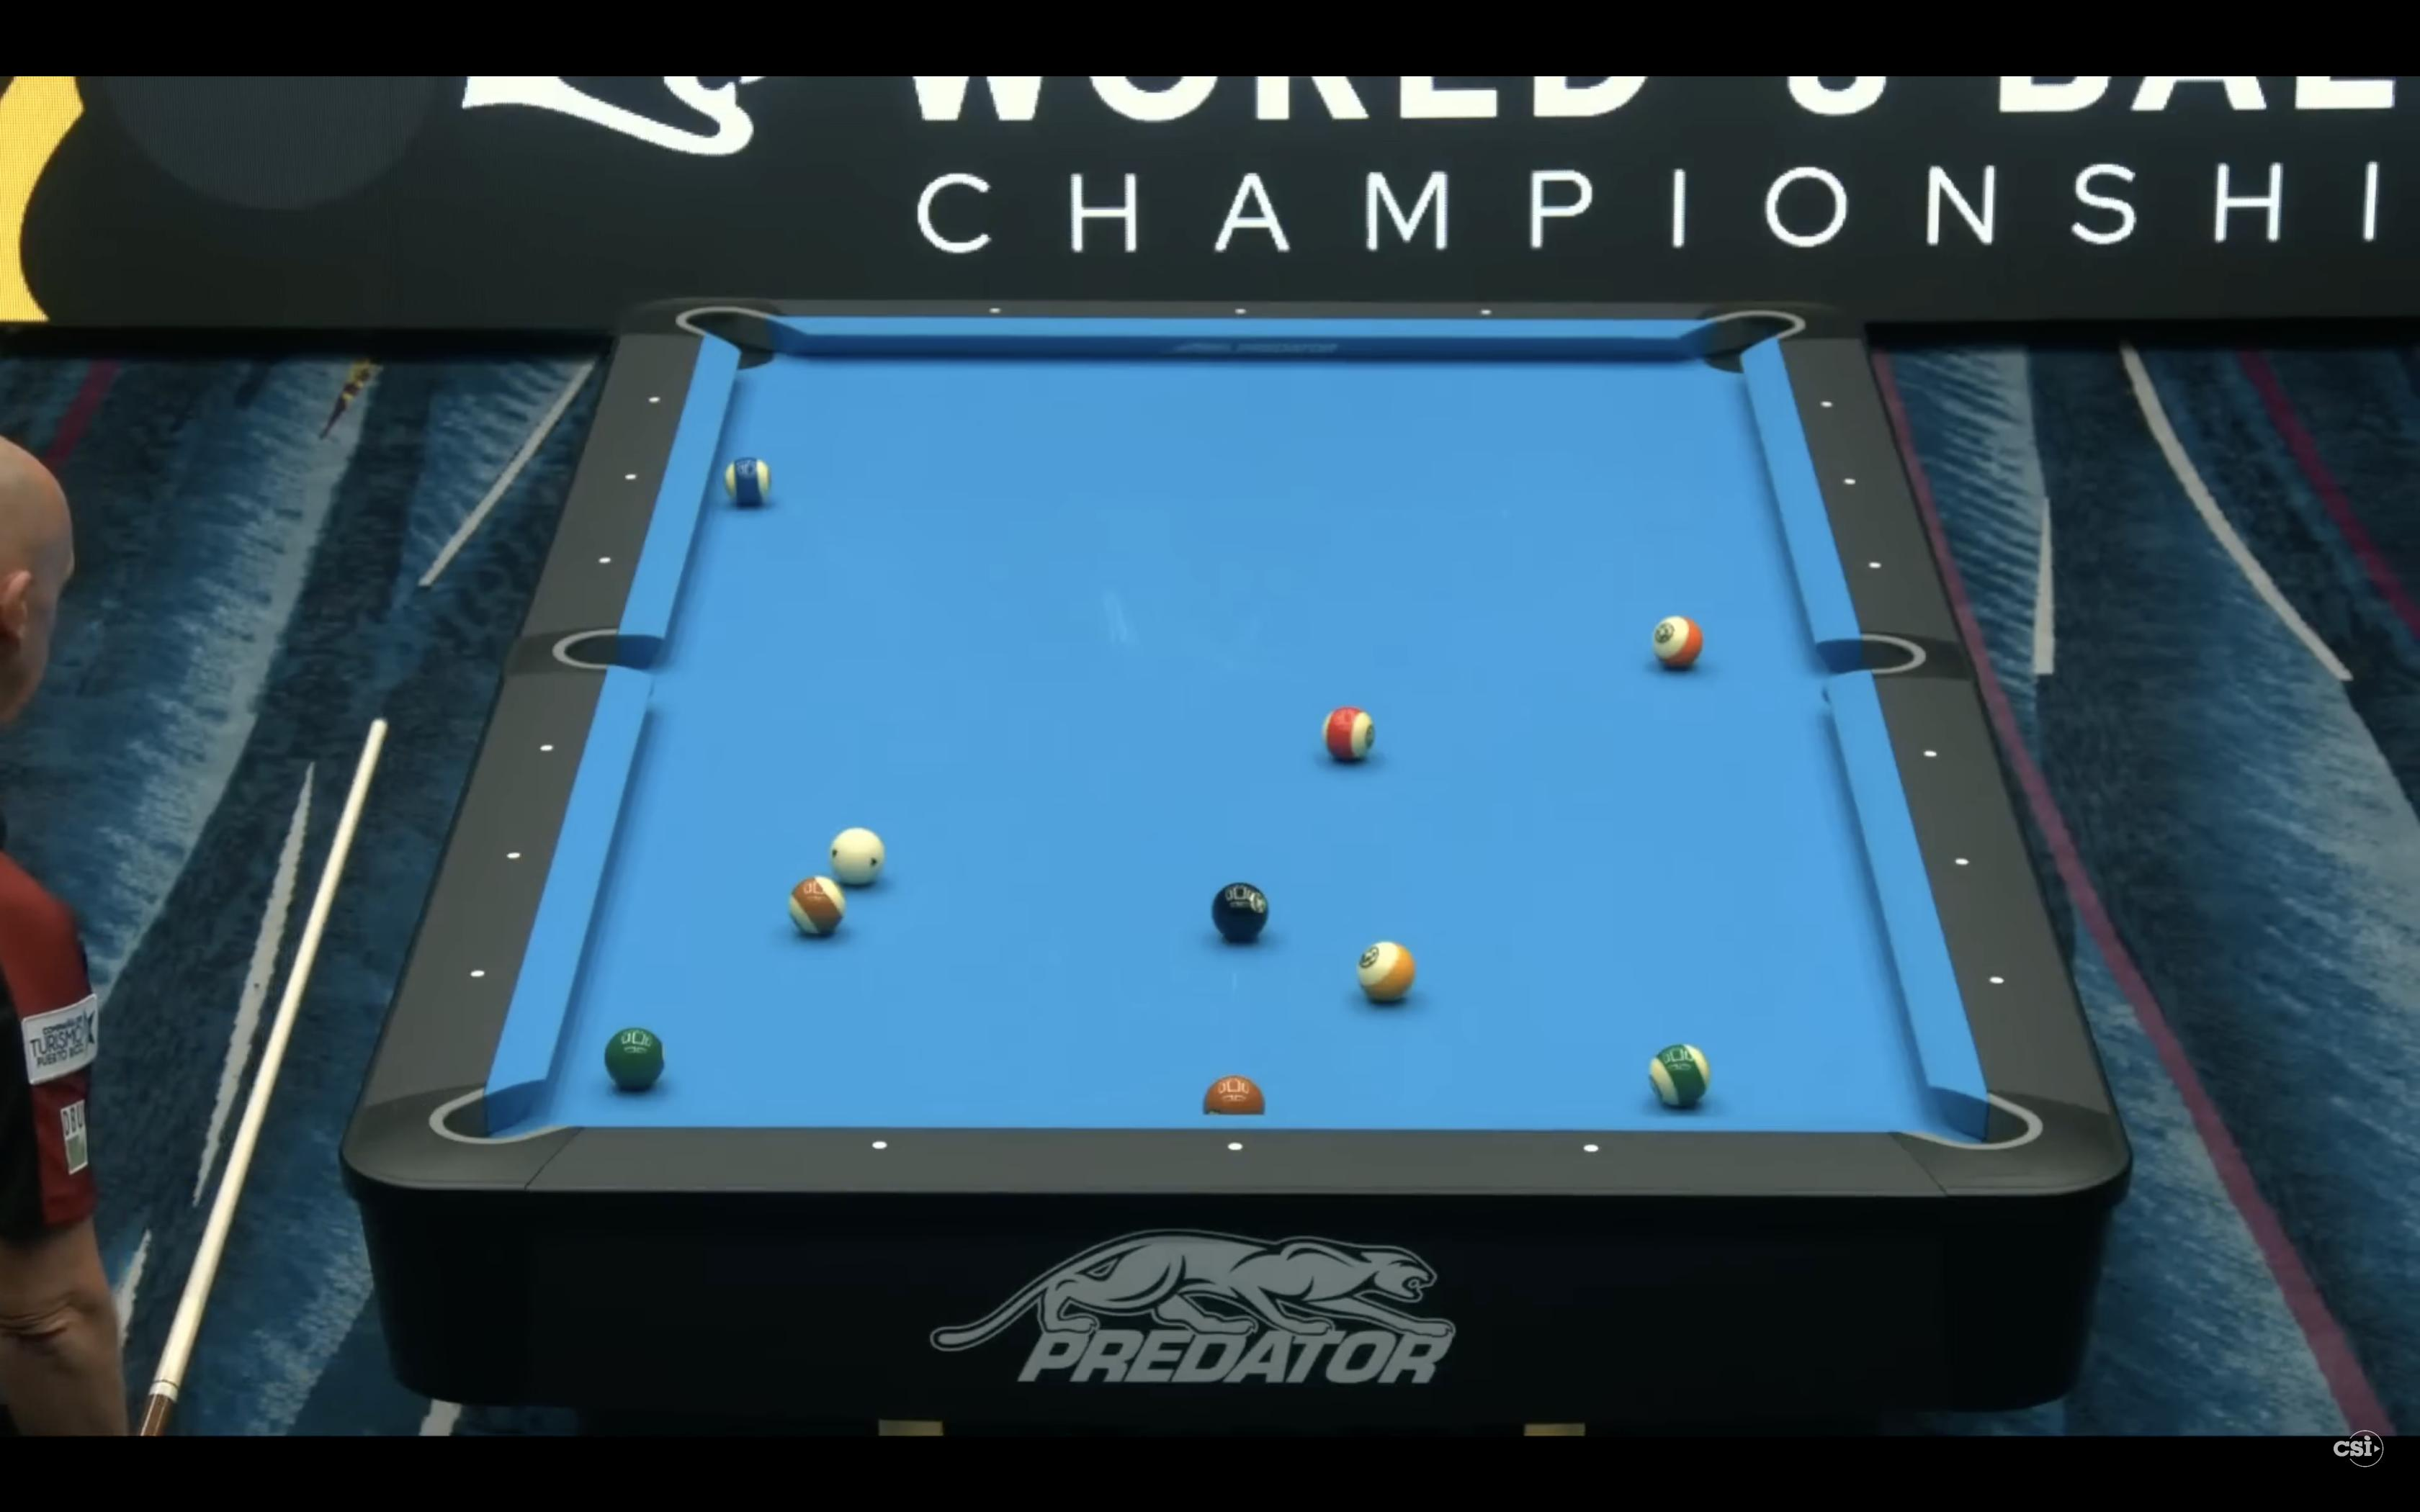Black: (1209, 883, 1273, 942)
Cue: (828, 824, 888, 888)
Dot: (1583, 1143, 1600, 1153), (872, 1139, 889, 1150), (506, 850, 521, 861), (1987, 976, 2006, 984), (1819, 398, 1834, 408), (647, 395, 662, 405), (540, 743, 555, 753), (1954, 858, 1971, 866), (1228, 1142, 1243, 1151), (1922, 750, 1938, 757), (1868, 560, 1883, 569), (471, 969, 485, 978), (1842, 477, 1857, 485), (1479, 308, 1494, 316), (1234, 307, 1247, 315), (987, 307, 1003, 313), (599, 556, 611, 564), (625, 473, 637, 480)
Solid: (604, 1026, 665, 1092), (1202, 1074, 1265, 1116)
Striped: (1649, 1042, 1711, 1110), (786, 874, 848, 937), (1355, 940, 1418, 1002), (1652, 617, 1706, 671), (1322, 705, 1373, 762), (724, 454, 771, 508)
